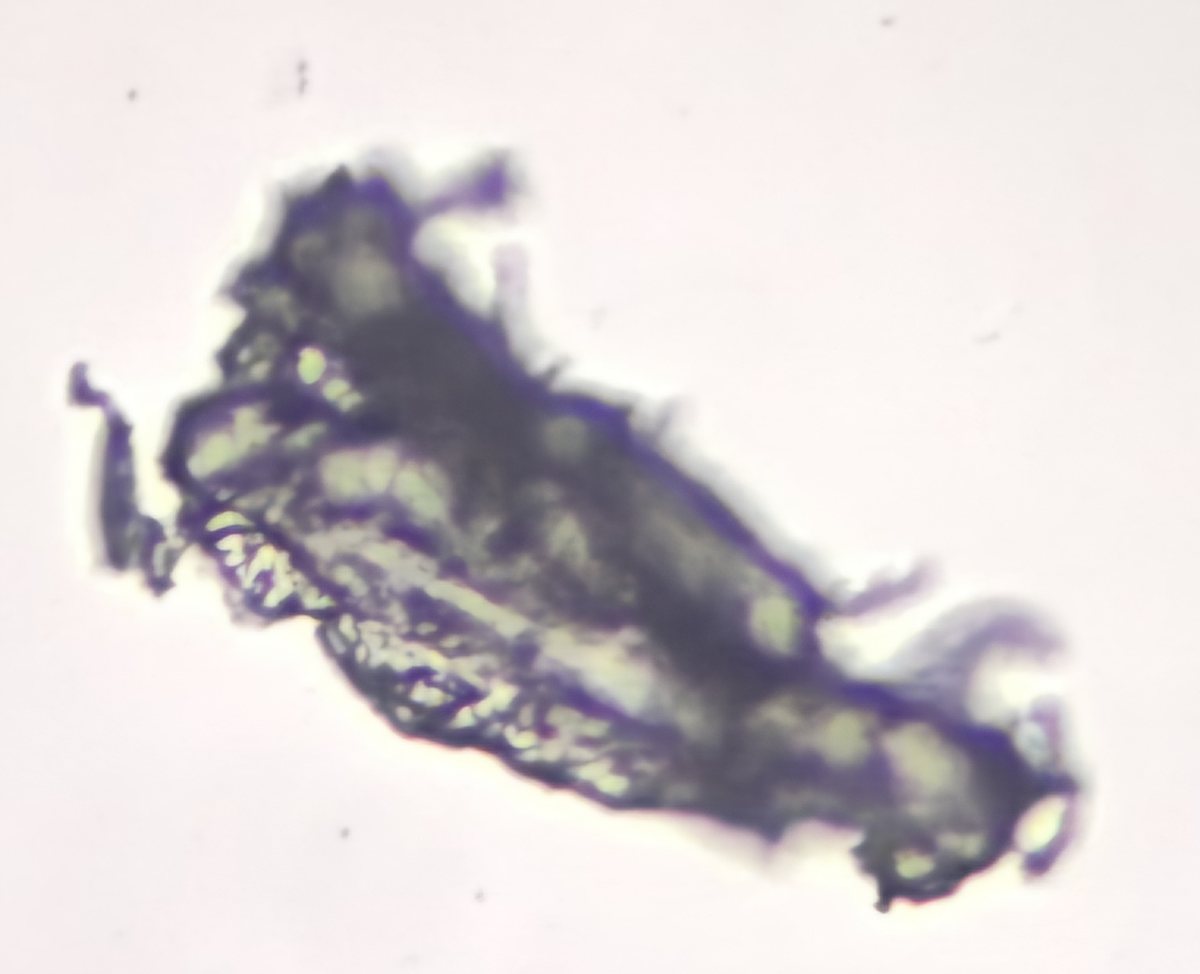microplastic: (68, 152, 1082, 913)
